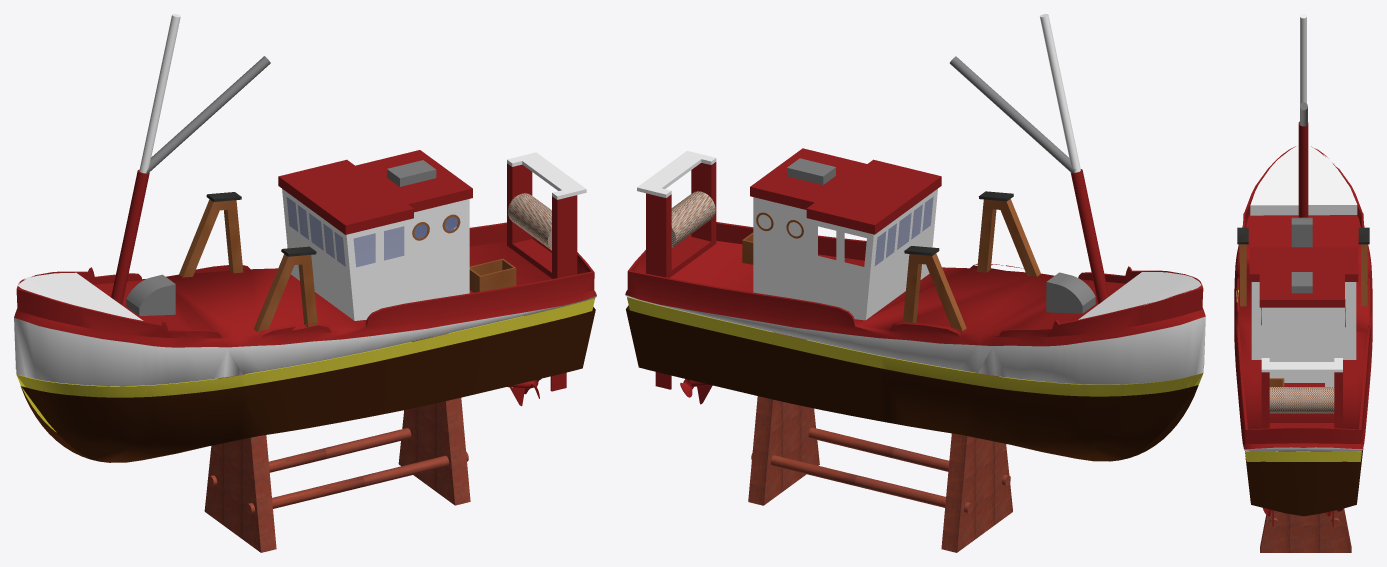
Rendered from fishing.gltf.
3 renders of one model, left to right at view 1: azimuth 30°, elevation 25°; view 2: azimuth 150°, elevation 25°; view 3: azimuth 270°, elevation 25°, orthographic. The views are drawn at different scales.
Parts seen in each view (by area): view 1: Fishing Boat, object 17, object 7, object 1, object 15, object 2, object 16, object 11, object 8, object 9, object 3, object 5 (+5 smaller); view 2: Fishing Boat, object 17, object 7, object 1, object 15, object 2, object 16, object 8, object 9, object 11, object 4, object 5 (+4 smaller); view 3: Fishing Boat, object 7, object 17, object 8, object 2, object 15, object 5, object 16, object 10, object 9, object 11, object 6.
Part boxes in pixels (box(x1,y1,x2,y2)): Fishing Boat: box(14, 222, 596, 432); object 17: box(20, 307, 595, 462); object 7: box(278, 150, 472, 320); object 1: box(204, 374, 276, 552); object 15: box(507, 152, 586, 278); object 2: box(398, 333, 470, 505); object 16: box(111, 14, 180, 304); object 11: box(179, 192, 243, 277); object 8: box(18, 272, 143, 320); object 9: box(254, 246, 317, 332); object 3: box(246, 451, 468, 514); object 5: box(412, 193, 551, 250); Fishing Boat: box(625, 222, 1205, 404); object 17: box(626, 305, 1198, 461); object 7: box(750, 148, 941, 320); object 1: box(941, 373, 1012, 552); object 15: box(637, 151, 716, 277); object 2: box(748, 332, 819, 505); object 16: box(1039, 14, 1108, 304); object 8: box(1078, 272, 1201, 319); object 9: box(977, 191, 1040, 276); object 11: box(903, 246, 966, 331); object 4: box(751, 453, 972, 513); object 5: box(671, 191, 803, 247); Fishing Boat: box(1234, 146, 1372, 526); object 7: box(1249, 247, 1358, 386); object 17: box(1245, 449, 1363, 516); object 8: box(1250, 144, 1357, 215); object 2: box(1260, 451, 1351, 552); object 15: box(1261, 358, 1342, 428); object 5: box(1261, 299, 1345, 413); object 16: box(1298, 14, 1308, 217); object 10: box(1291, 217, 1312, 247); object 9: box(1237, 227, 1248, 306); object 11: box(1358, 227, 1369, 306); object 6: box(1291, 272, 1312, 293).
Size of the model in its own units: 0.4377 by 0.4033 by 0.1174.
10 materials, 5 textured.
